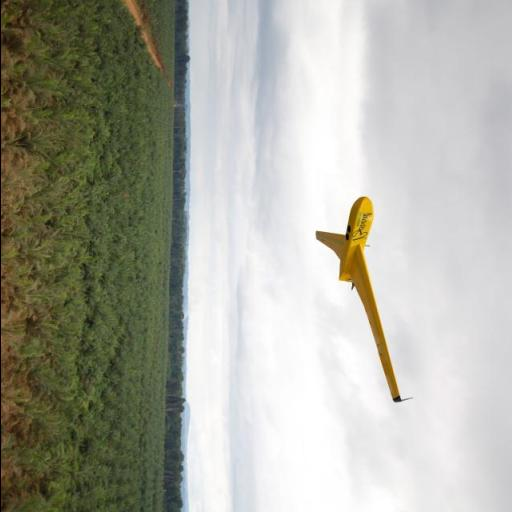uav: (310, 194, 420, 408)
